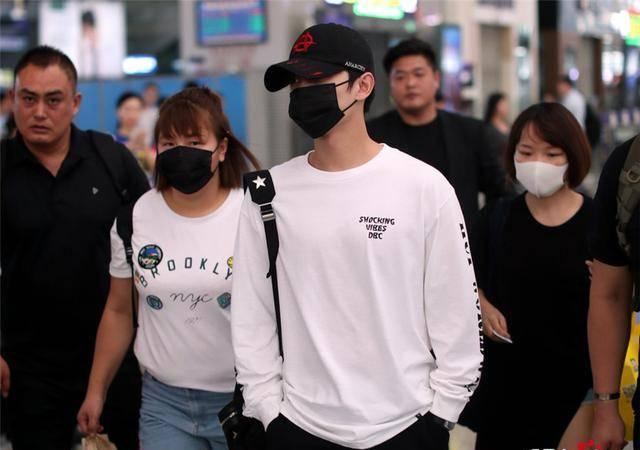face: (11, 68, 74, 141), (387, 56, 436, 107), (117, 100, 141, 124)
face_mask: (287, 58, 345, 138), (514, 129, 573, 195), (158, 122, 211, 190)
